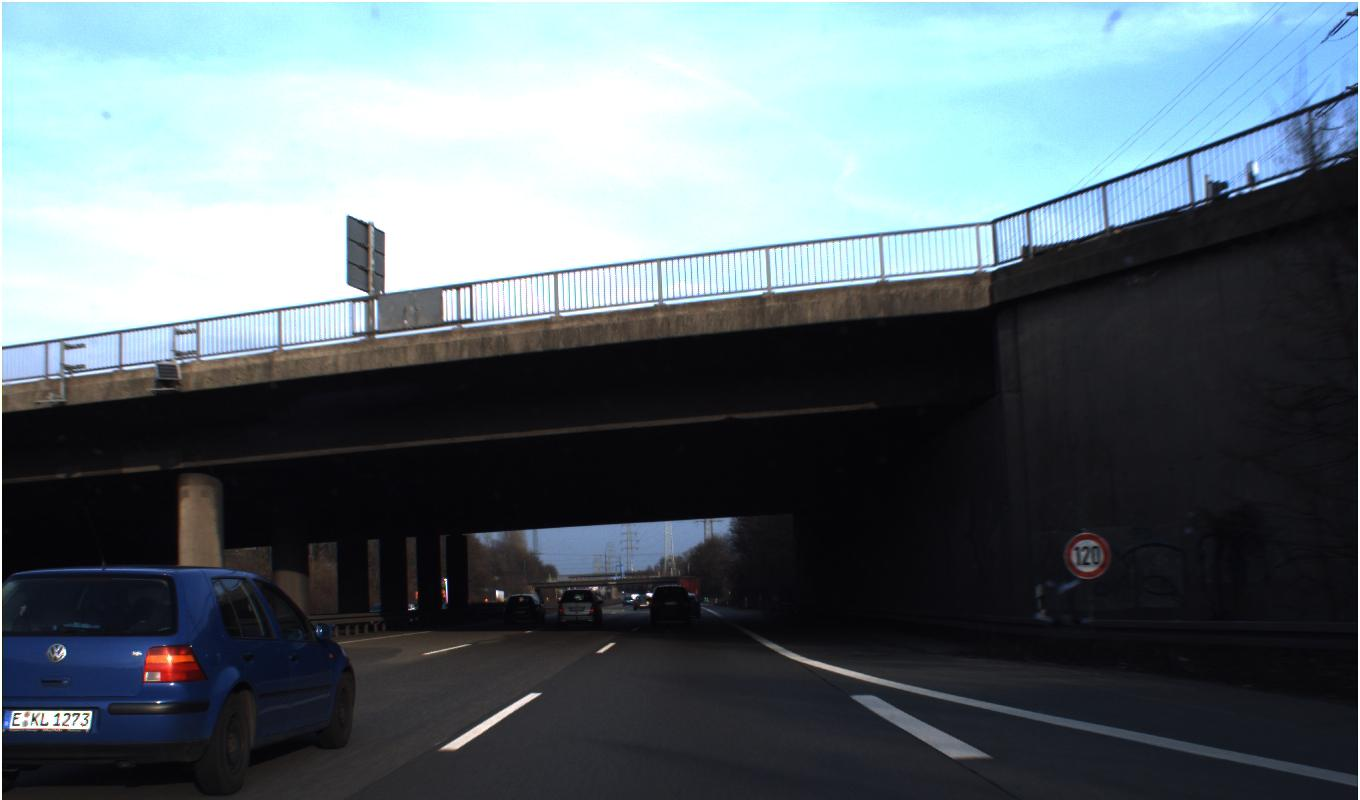prohibitory: (1063, 531, 1112, 580)
